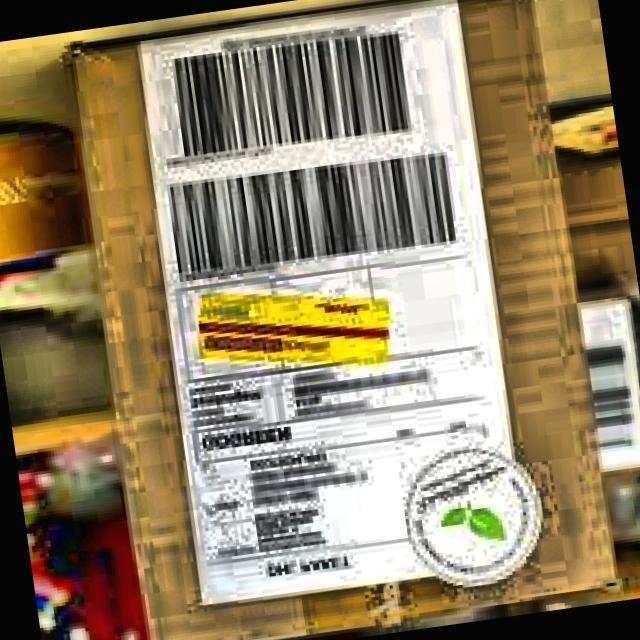cardboard: (57, 0, 621, 640)
